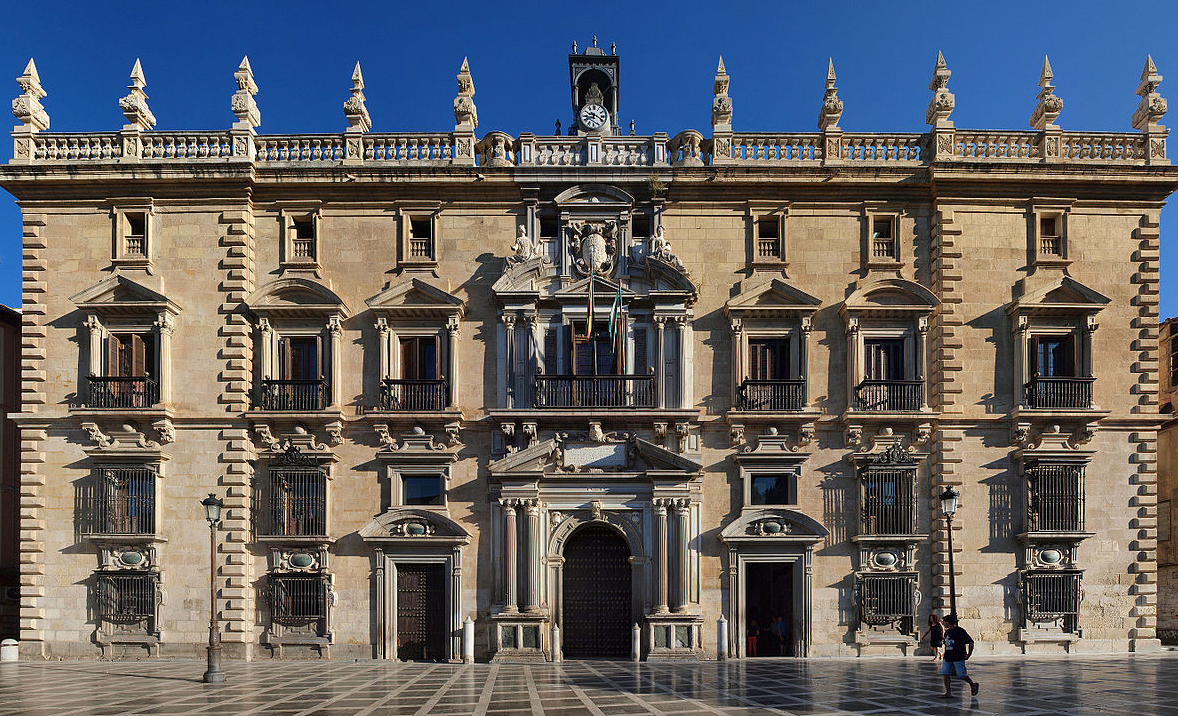arco-medio-punto: (544, 506, 647, 569)
fronton: (63, 273, 182, 313), (363, 275, 469, 319), (720, 275, 828, 316), (1004, 275, 1118, 312), (552, 271, 639, 304)
fronton-curvo: (244, 275, 352, 322), (354, 506, 471, 546), (716, 508, 833, 547), (841, 275, 946, 316), (553, 183, 638, 211)
fronton-partido: (490, 250, 701, 302), (485, 435, 707, 482)
vano-adintelado: (726, 549, 817, 661), (374, 550, 460, 665), (723, 317, 815, 422), (841, 317, 934, 420), (82, 315, 176, 414), (254, 319, 345, 420), (1012, 316, 1104, 415), (375, 320, 463, 418)
